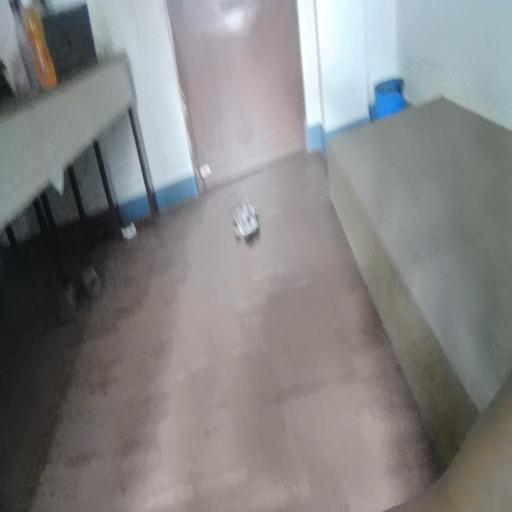car: (232, 210, 266, 238)
